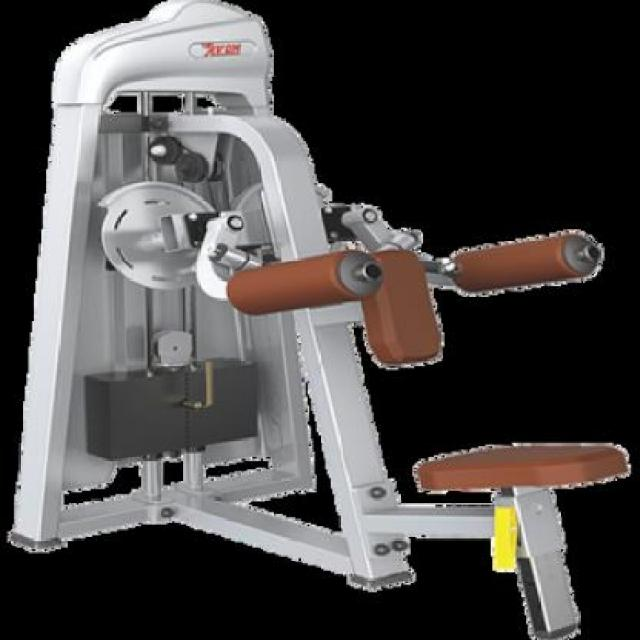lateral raises machine: (12, 1, 628, 637)
